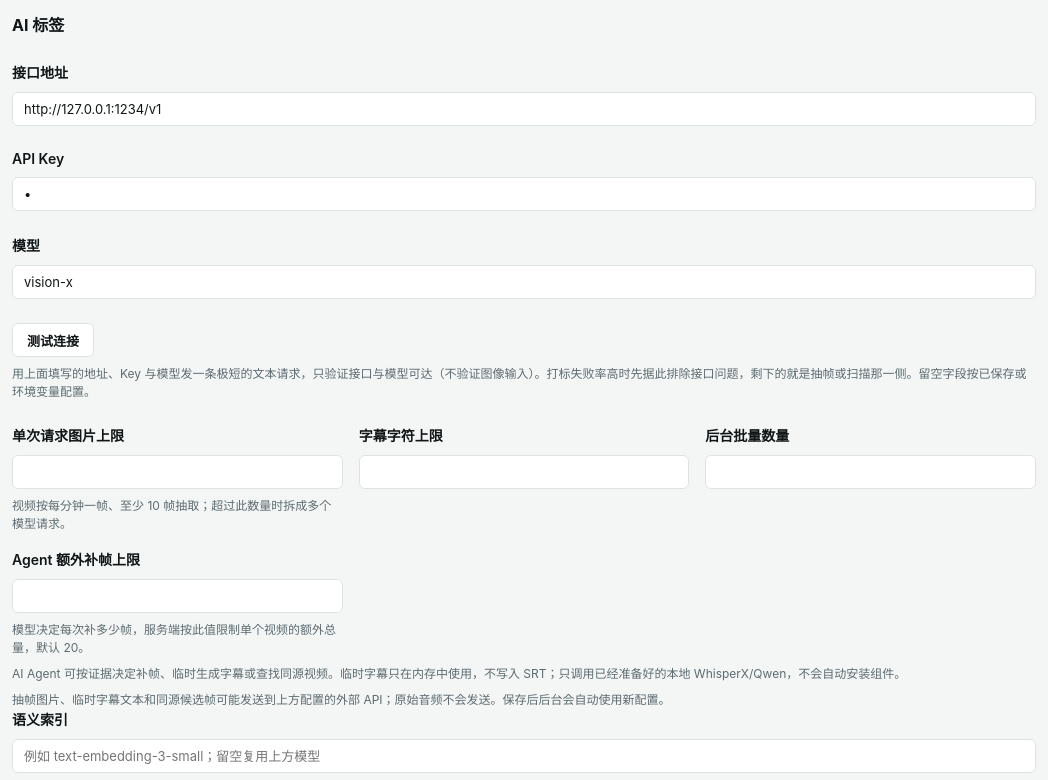
Test case: AITagSection connection test › sends the form values and shows the backend verdict
This screenshot has width=1048, height=780.
Step 1. Click the button with test id "ai-connection-test" showing "测试连接" → (53, 340), box [12,323,94,357]
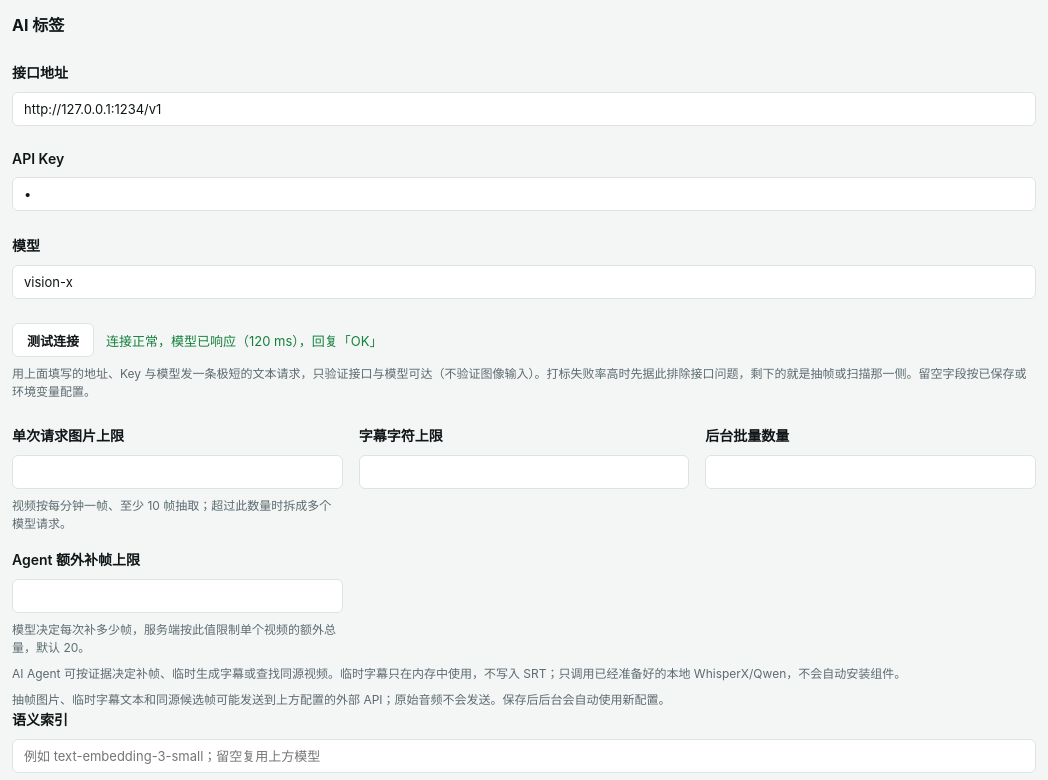
expect the message with test id "ai-connection-result" shows "连接正常": met, box [106,332,299,348]
expect the message with test id "ai-connection-result" shows "回复「OK」": met, box [299,332,382,348]
